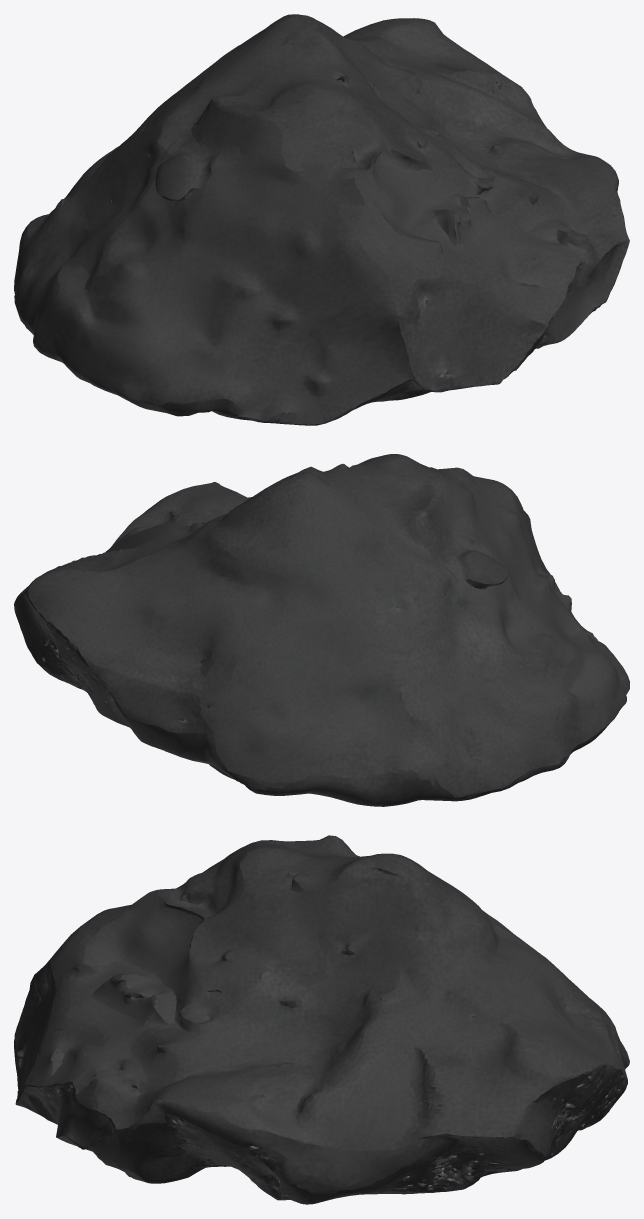
3 views of the same model, one above another, from view 1: azimuth 30°, elevation 25°; view 2: azimuth 150°, elevation 25°; view 3: azimuth 270°, elevation 25° (orthographic). The views are drawn at different scales.
Parts seen in each view (by area): view 1: world; view 2: world; view 3: world.
Boxes of the visible parts, box(x1,y1,x2,y2) form: world: box(14, 14, 629, 425); world: box(14, 454, 629, 806); world: box(14, 835, 629, 1204).
Size of the model in its own units: 1.2 by 0.5716 by 1.19.
1 material, 1 textured.
